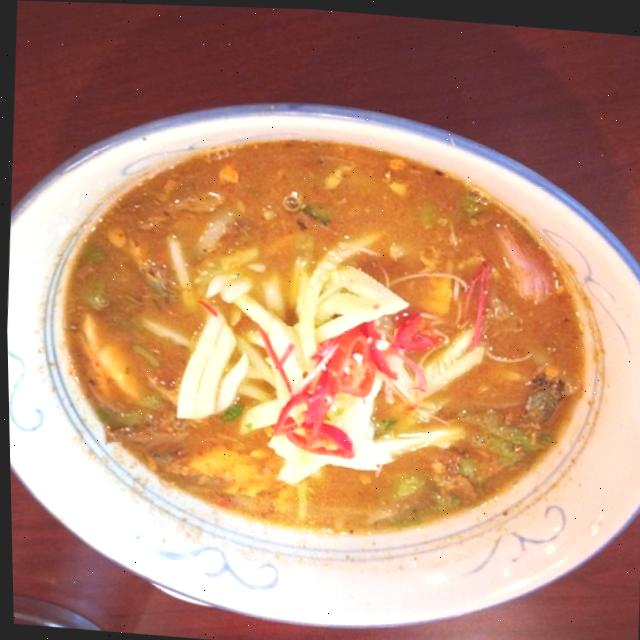面条主食: (2, 87, 640, 640)
